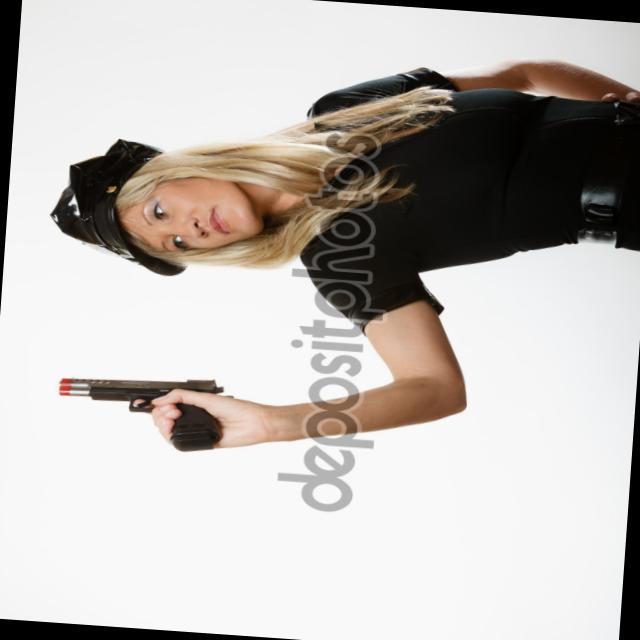handgun: (40, 363, 234, 465)
